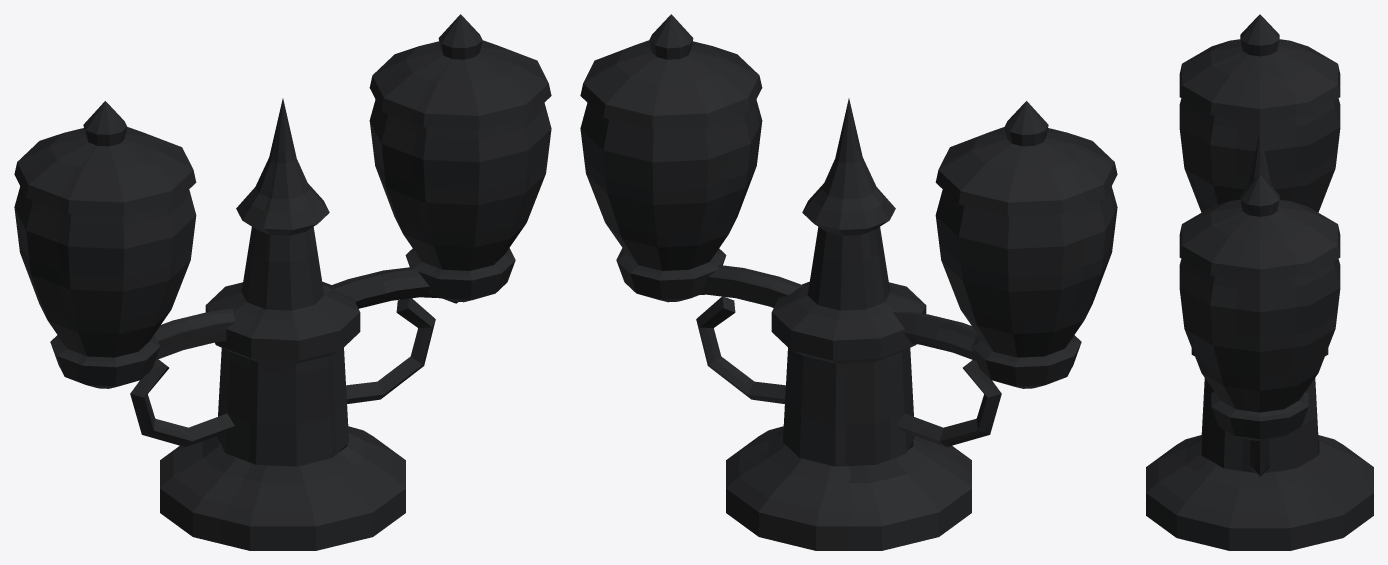
Rendered from decolight_laum1906twin_inv.obj.
3 renders of one model, left to right at view 1: azimuth 30°, elevation 25°; view 2: azimuth 150°, elevation 25°; view 3: azimuth 270°, elevation 25°, orthographic. The views are drawn at different scales.
Visible parts, largest first — view 1: decolight_laum1906twin_inv; view 2: decolight_laum1906twin_inv; view 3: decolight_laum1906twin_inv.
Boxes of the visible parts, x1,y1,x2,y2 form: decolight_laum1906twin_inv: (14, 14, 551, 550); decolight_laum1906twin_inv: (580, 14, 1117, 550); decolight_laum1906twin_inv: (1146, 14, 1373, 550).
Size of the model in its own units: 0.975 by 0.801 by 0.4049.
